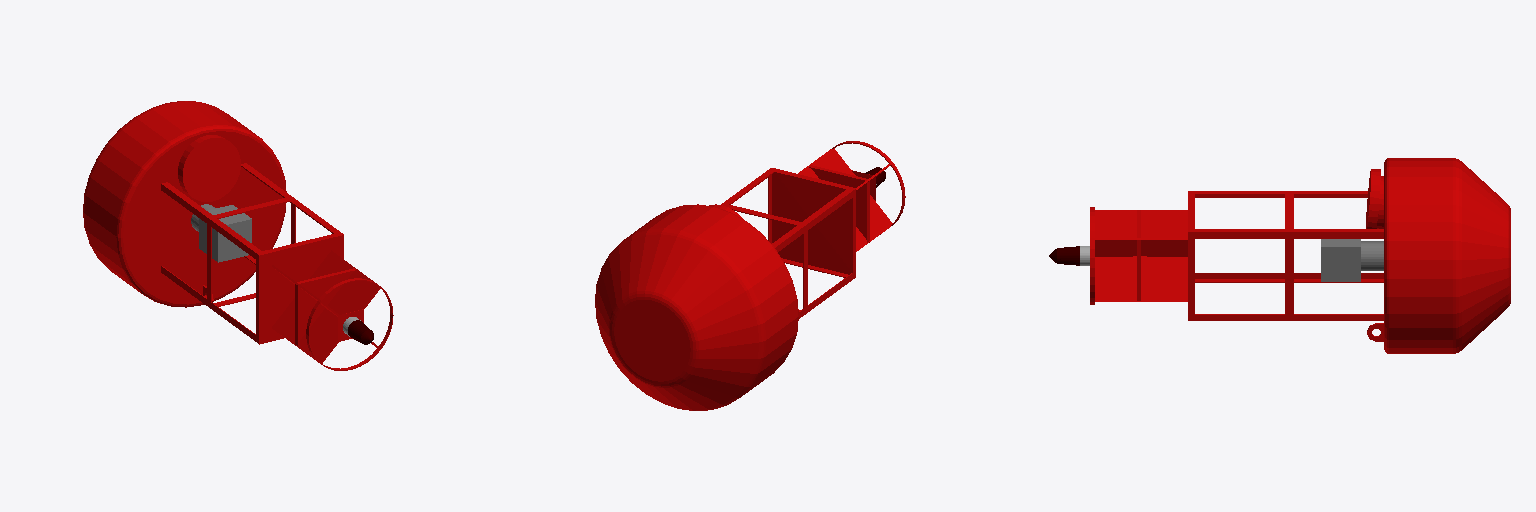
File: buoy.obj
3 views of the same model, side by side, from view 1: azimuth 30°, elevation 25°; view 2: azimuth 150°, elevation 25°; view 3: azimuth 270°, elevation 25° (orthographic).
Visible parts, largest first — view 1: Base_Cylinder, Supports_Plane.002, Hatch_Cylinder.005, Bell_Cylinder.001; view 2: Base_Cylinder, Supports_Plane.002; view 3: Base_Cylinder, Supports_Plane.002, Bell_Cylinder.001, Hatch_Cylinder.005.
Boxes of the visible parts, box(x1,y1,x2,y2) form: Base_Cylinder: box(83, 101, 286, 307); Supports_Plane.002: box(161, 163, 393, 370); Hatch_Cylinder.005: box(178, 135, 240, 201); Bell_Cylinder.001: box(191, 204, 251, 262); Base_Cylinder: box(595, 204, 798, 410); Supports_Plane.002: box(721, 141, 905, 318); Base_Cylinder: box(1384, 158, 1510, 353); Supports_Plane.002: box(1090, 191, 1383, 320); Bell_Cylinder.001: box(1321, 239, 1383, 281); Hatch_Cylinder.005: box(1366, 169, 1383, 228).
Bounding box in the file's own units: 2 × 2 × 4.71.